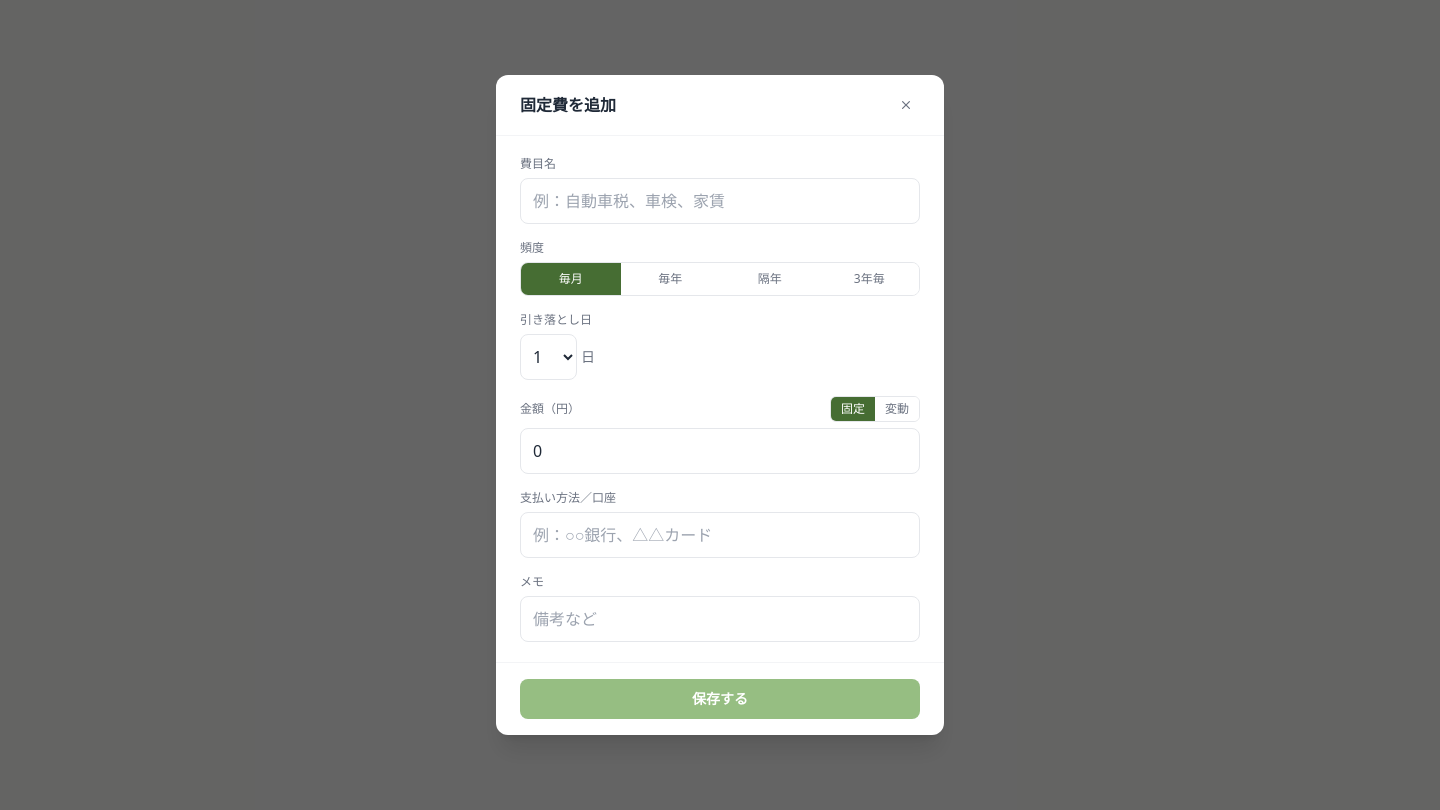
it: FixedCostModal › 「変動」を選択すると金額入力フィールドが非表示になる
The width and height of the screenshot is (1440, 810).
Click the button "変動" at (897, 409), box 875,397 -> 919,421
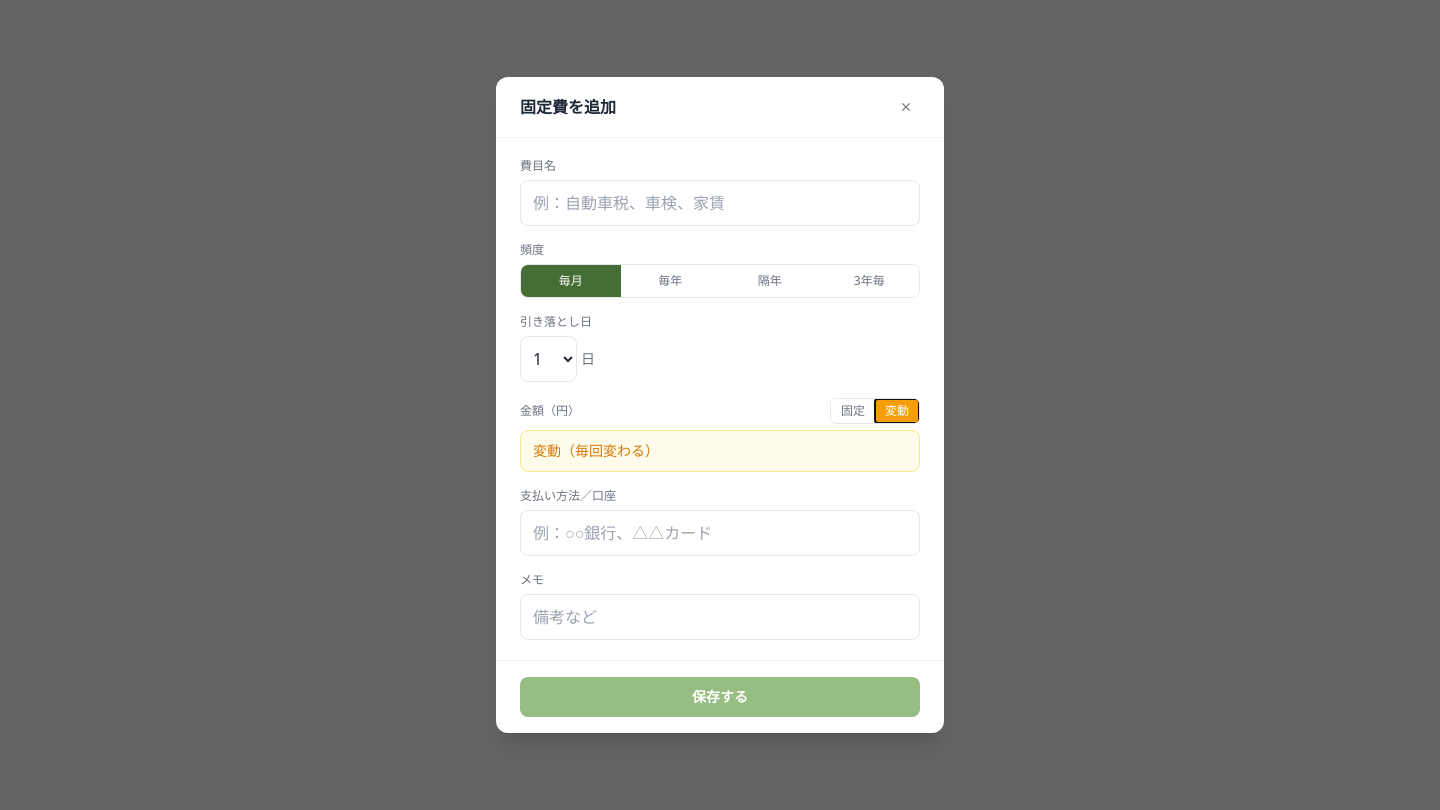
Check: the text "変動（毎回変わる）" is shown, box 520,430 -> 920,472
